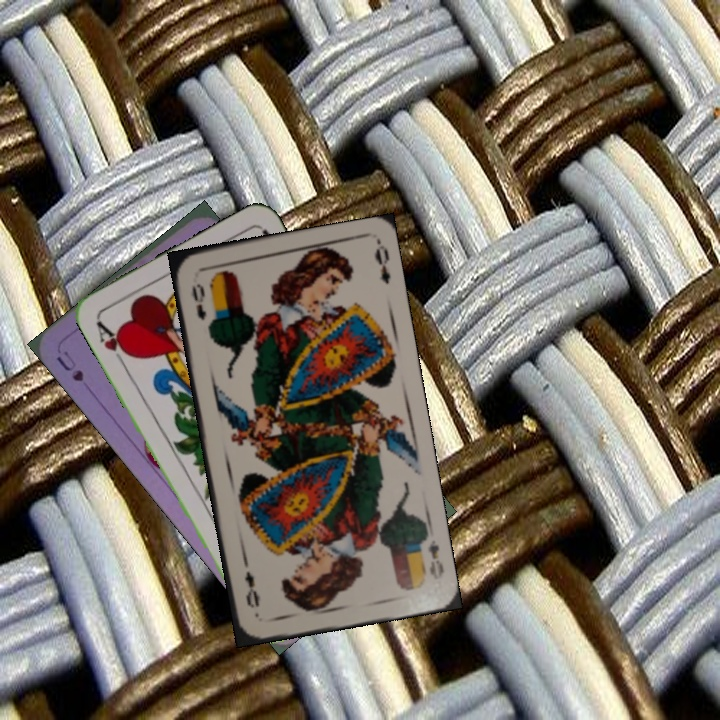EO: (424, 536, 446, 583), (188, 280, 209, 323)
HA: (92, 315, 134, 370)
SU: (52, 346, 87, 385)
